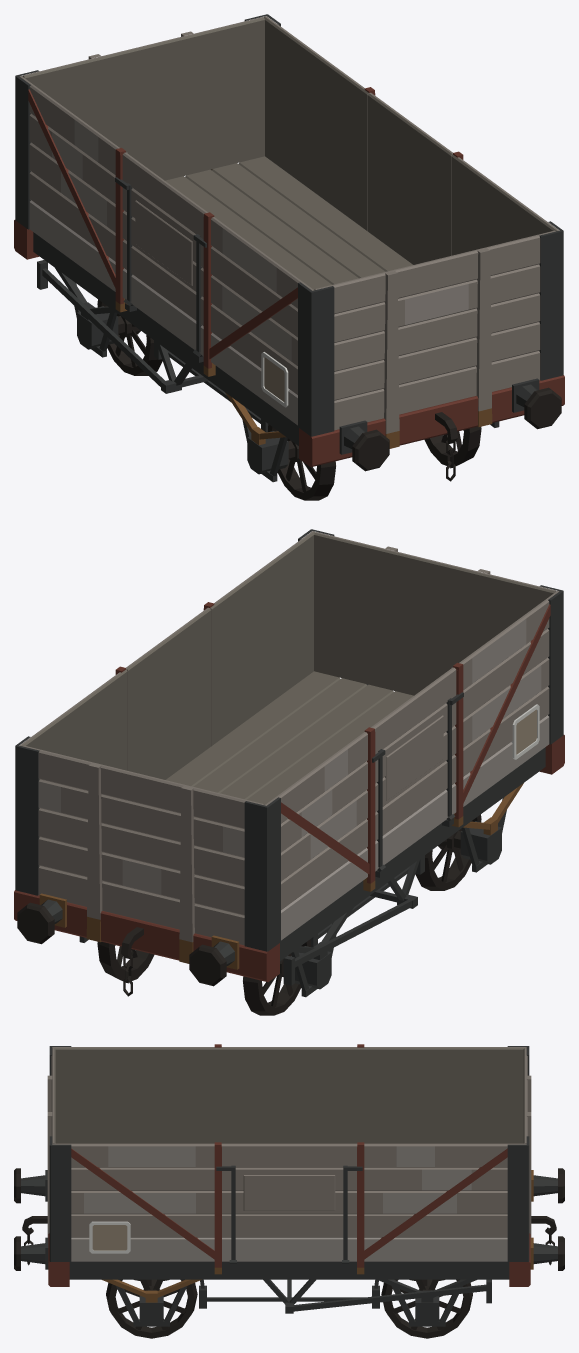
The model's file is open-goods-wagon-998292.glb.
3 views of the same model, one above another, from view 1: azimuth 30°, elevation 25°; view 2: azimuth 150°, elevation 25°; view 3: azimuth 270°, elevation 25° (orthographic). The views are drawn at different scales.
Visible parts, largest first — view 1: body, door-leaf, wheel-1-set, wheel-2-set; view 2: body, door-leaf, wheel-2-set, wheel-1-set; view 3: body, door-leaf, wheel-1-set, wheel-2-set.
Boxes of the visible parts, <box> form: body: <box>14,14,564,482</box>; door-leaf: <box>367,93,452,264</box>; wheel-1-set: <box>268,424,481,500</box>; wheel-2-set: <box>97,299,162,375</box>; body: <box>14,529,564,997</box>; door-leaf: <box>126,608,211,779</box>; wheel-2-set: <box>97,939,310,1015</box>; wheel-1-set: <box>415,814,481,890</box>; body: <box>14,1044,564,1326</box>; door-leaf: <box>216,1143,362,1263</box>; wheel-1-set: <box>106,1279,197,1338</box>; wheel-2-set: <box>381,1279,472,1338</box>.
Bounding box in the file's own units: 2.63 × 2.58 × 6.
